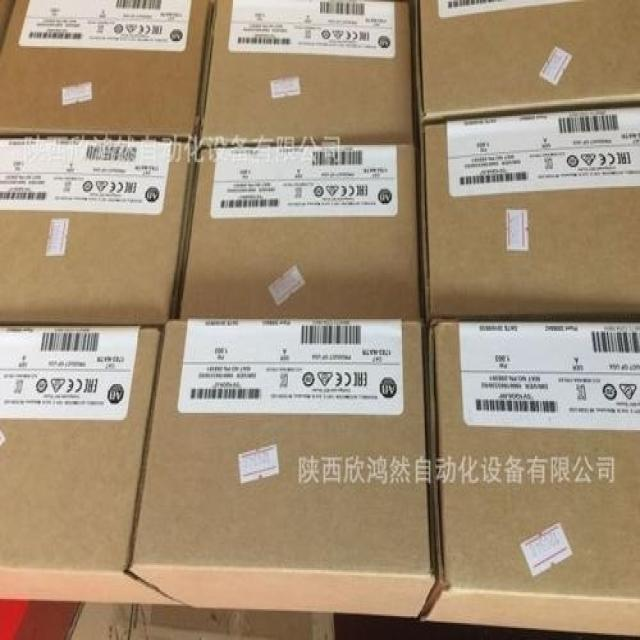box: (128, 317, 436, 620), (420, 319, 640, 637), (0, 324, 186, 606), (417, 104, 640, 319), (179, 143, 424, 319), (0, 135, 200, 326), (0, 0, 215, 143), (198, 0, 412, 143), (411, 0, 640, 123)
